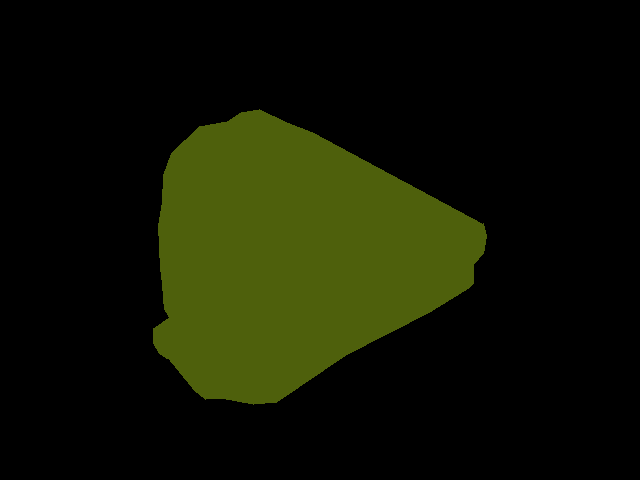Train: (153, 109, 486, 405)
